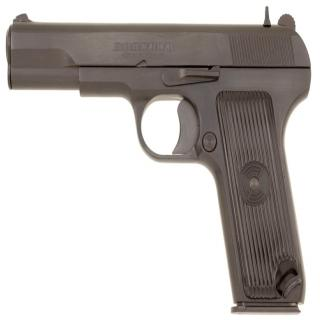gun: (2, 15, 316, 312)
